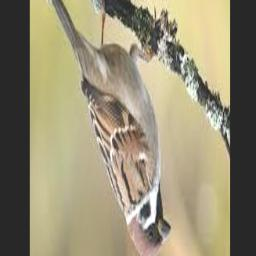Sparrow: (50, 0, 171, 256)
